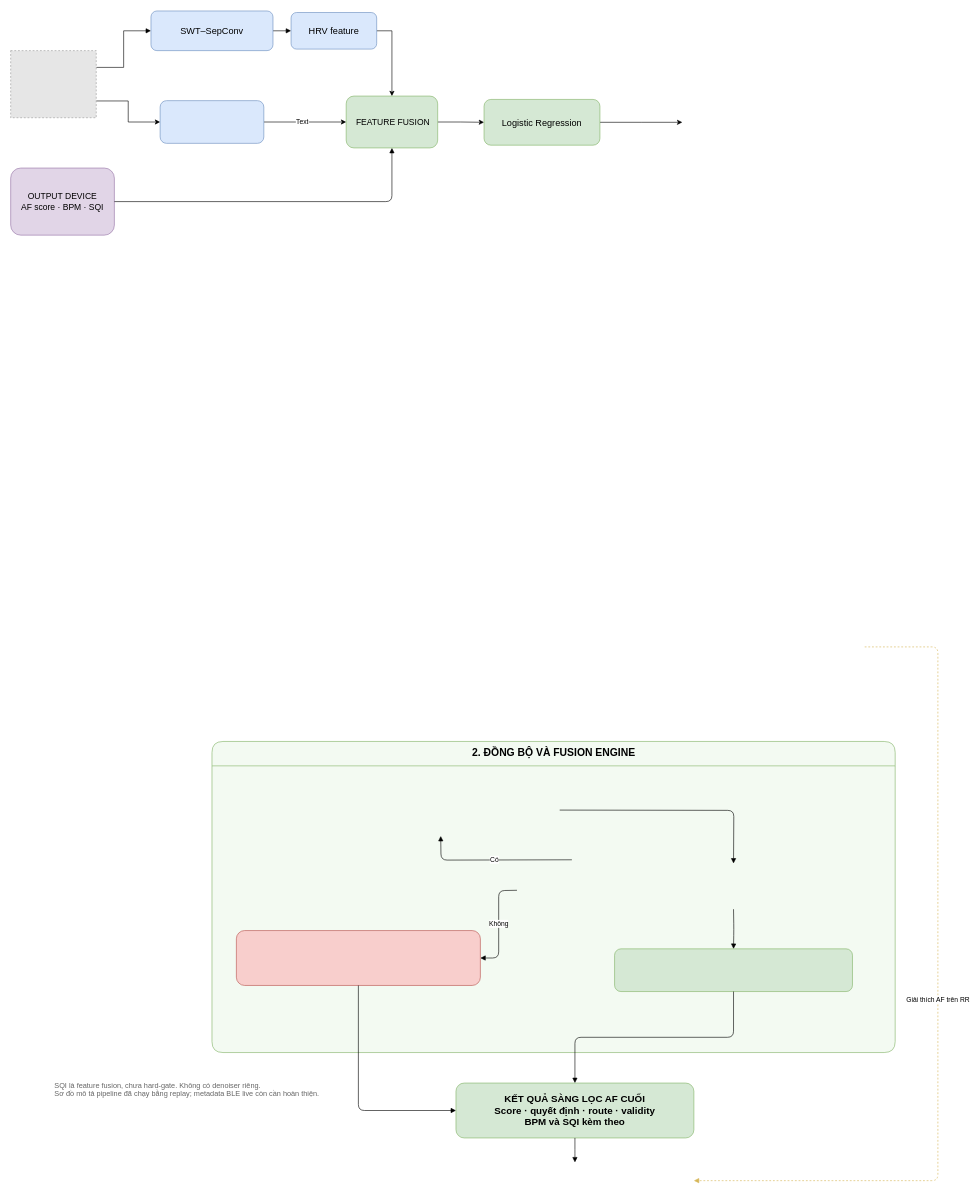
This 980x1196 diagram has some shape labels left out. Grey dashed boxes stand in for pictures. Here are the shapes that lost their labels. From the top down, the centre of each, then its label:
At (x=212, y=121): "ECGFounder".
At (x=358, y=957): "FALLBACK Một nhánh hợp lệ: dùng nhánh đó Cả hai thiếu: unavailable".
At (x=733, y=970): "Ngưỡng fusion đã khóa bằng validation 0,657671 — giao thức SHDB-AF hiện tại".
